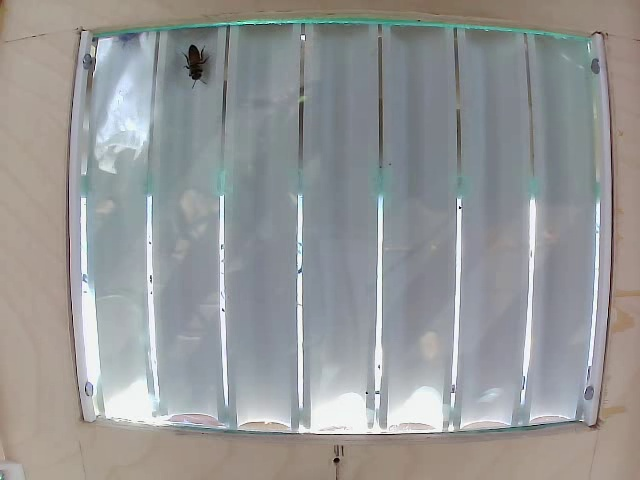bee: (171, 39, 217, 90)
